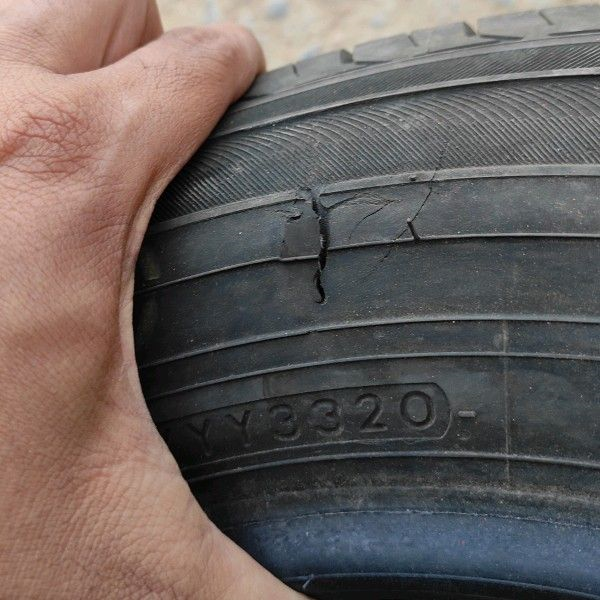cut: (283, 181, 396, 303)
